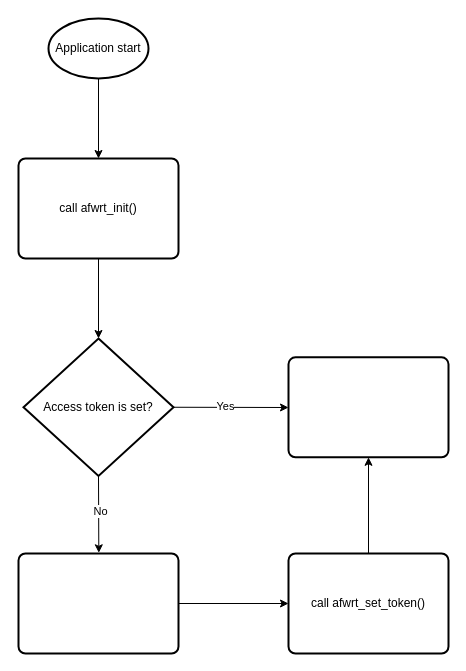
The diagram is 466 pixels wide and 671 high, and some of its shapes have lost their labels. The shapes that lost their labels are listed below. From the top down, each one's centre as x and y in pixels, then its label:
At point (368, 407): "call afwrt_start()".
At point (98, 603): "call afwrt_register_device()".
